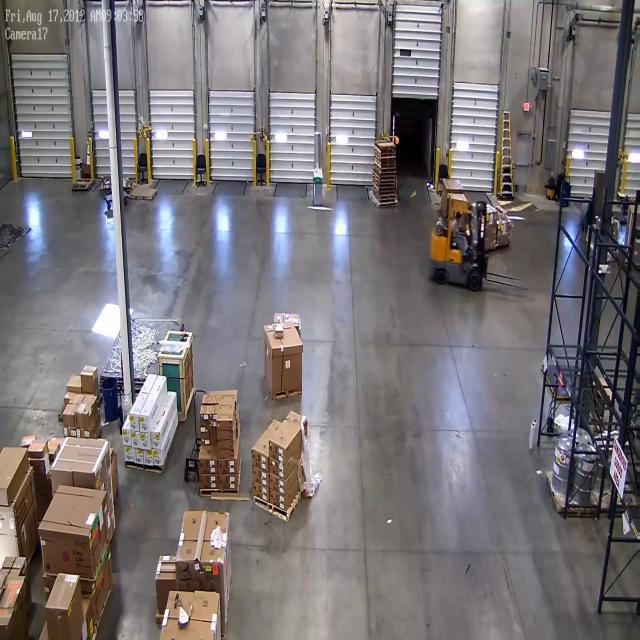human: (452, 211, 469, 258)
product 1: (41, 480, 108, 571), (172, 508, 232, 592), (264, 322, 307, 403), (49, 427, 110, 483), (0, 464, 33, 562), (161, 590, 221, 639), (273, 306, 302, 332), (623, 231, 640, 272), (625, 199, 640, 240), (441, 173, 465, 191), (481, 203, 499, 224), (447, 194, 469, 207), (484, 222, 499, 237), (483, 237, 500, 250)
product 2: (272, 324, 284, 340)
product 3: (132, 446, 146, 469), (123, 444, 138, 465), (150, 429, 162, 450), (122, 427, 134, 448), (139, 414, 151, 434), (130, 411, 141, 432), (152, 448, 164, 466), (140, 431, 151, 450), (143, 448, 154, 466), (131, 433, 141, 448)
product 4: (79, 361, 99, 394), (268, 486, 290, 512), (63, 392, 79, 426), (76, 396, 95, 424), (251, 481, 274, 503), (269, 470, 289, 494), (267, 454, 286, 478), (250, 445, 268, 470), (250, 466, 270, 487), (268, 438, 287, 460), (27, 438, 50, 456), (66, 370, 82, 395), (198, 456, 219, 475), (216, 458, 238, 476), (28, 457, 50, 475), (199, 403, 220, 421), (46, 434, 61, 459), (76, 424, 102, 438), (218, 474, 242, 489), (218, 402, 238, 420), (496, 232, 516, 250), (198, 475, 220, 489), (216, 447, 240, 459), (220, 390, 238, 406), (216, 416, 233, 432), (204, 390, 220, 406), (62, 423, 78, 439), (217, 440, 238, 452), (495, 220, 514, 233), (63, 388, 78, 404), (198, 422, 215, 436), (21, 432, 38, 446), (217, 429, 236, 441), (199, 438, 217, 450), (494, 203, 507, 219)
product 5: (0, 442, 31, 505), (42, 572, 82, 620), (154, 549, 178, 586), (4, 577, 30, 607), (0, 606, 17, 636), (12, 552, 28, 572), (2, 550, 14, 570), (1, 566, 11, 588)
